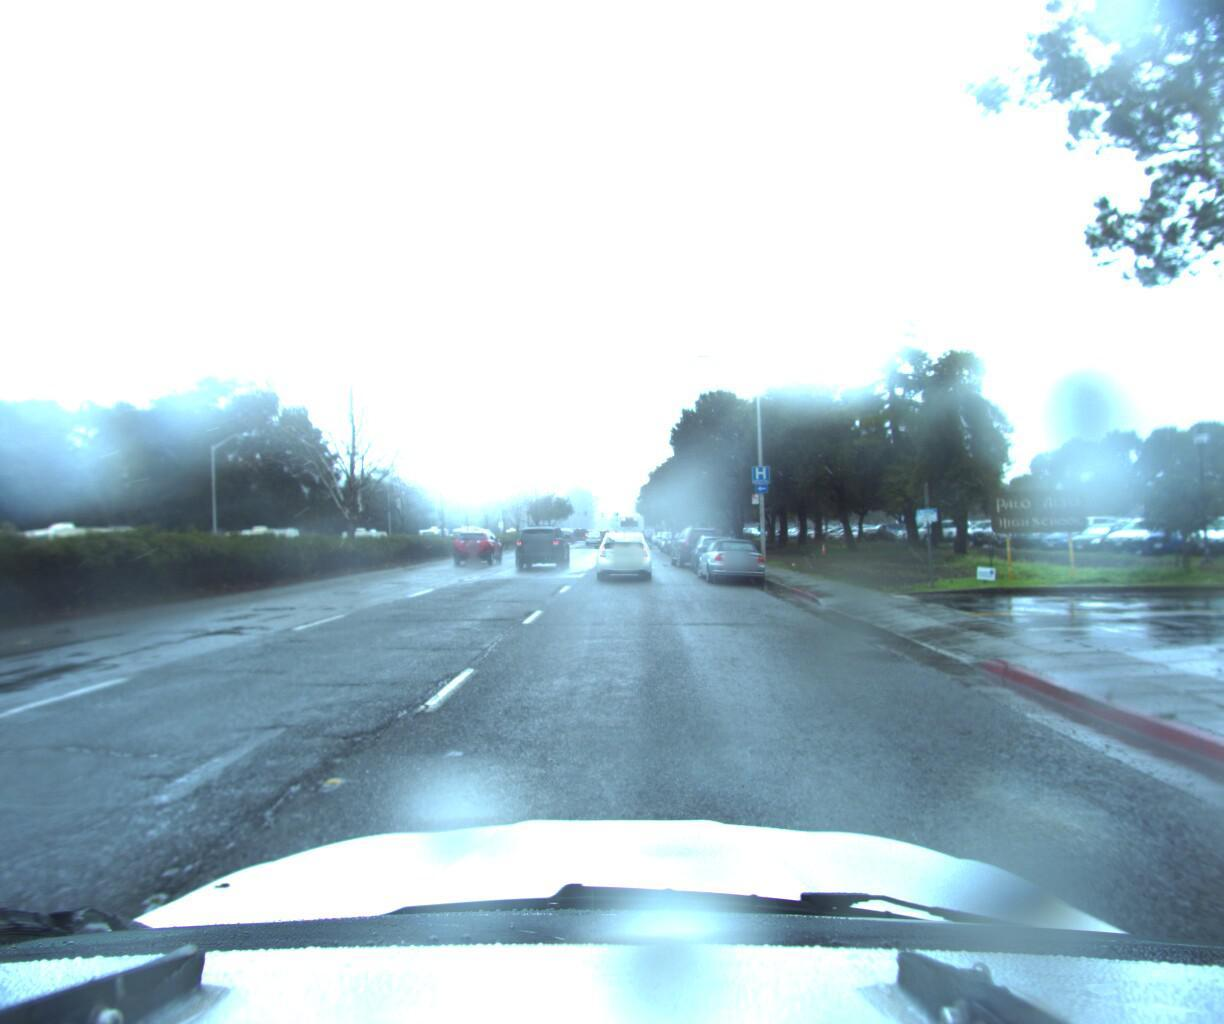bus: (614, 508, 649, 549)
car: (691, 536, 766, 586), (595, 528, 654, 582), (511, 525, 573, 573), (663, 524, 720, 571), (685, 532, 744, 575), (446, 528, 503, 566), (584, 529, 605, 547)
other_vehicle: (0, 524, 150, 602), (217, 526, 306, 576), (336, 525, 393, 560)
